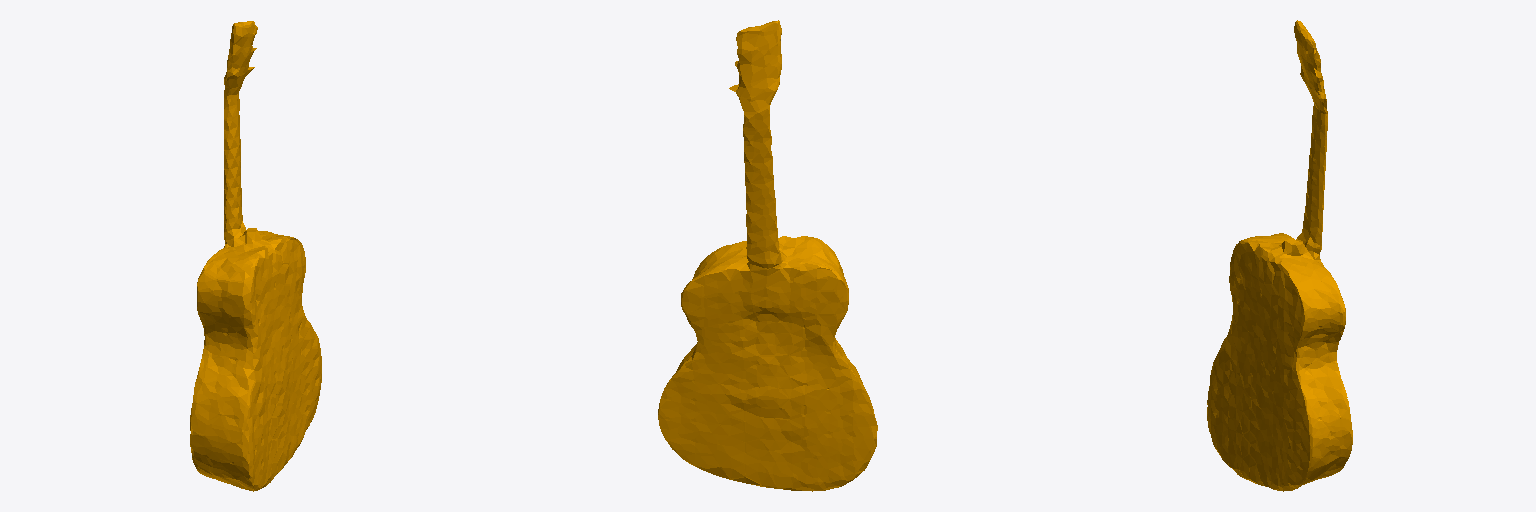
URDF robot description (model_1778240775):
<?xml version="1.0" ?>
<robot name="model_1778240775">
  <link name="base_link">
    <inertial>
      <origin xyz="-0.07000621670926643 -0.5251122441777049 2.5817191641506185" rpy="0 0 0"/>
      <mass value="2.0950288739196523"/>
      <inertia ixx="1.564378953694569" ixy="-0.012849478643300605" ixz="0.16658205647523103" iyy="0.4878766689799725" iyz="0.11440047435416598" izz="1.7271070203836663"/>
    </inertial>
    <visual>
      <origin xyz="0 0 2.49999076128006" rpy="0 0 0"/>
      <geometry>
        <mesh filename="visual.obj" scale="5.0 5.0 5.0"/>
      </geometry>
    </visual>
    <collision>
      <origin xyz="0 0 2.49999076128006" rpy="0 0 0"/>
      <geometry>
        <mesh filename="collision.obj" scale="5.0 5.0 5.0"/>
      </geometry>
    </collision>
  </link>
</robot>

--- Render facts (derived) ---
The picture shows the robot from 3 angles, left to right: view 1: azimuth 30°, elevation 25°; view 2: azimuth 150°, elevation 25°; view 3: azimuth 270°, elevation 25°; orthographic projection.
Model model_1778240775 with 1 links and 0 joints (none), rooted at base_link, posed all joints at 0.
Visible links, largest first — view 1: base_link; view 2: base_link; view 3: base_link.
Boxes of the visible links, bbox=[...] form: base_link: bbox=[190, 21, 321, 491]; base_link: bbox=[658, 20, 877, 491]; base_link: bbox=[1207, 20, 1352, 491].
Bounding box of the posed robot: 1.92 × 1.46 × 5 m (x, y, z).
1 mesh visuals loaded from 1 distinct referenced files (1 OBJ).
